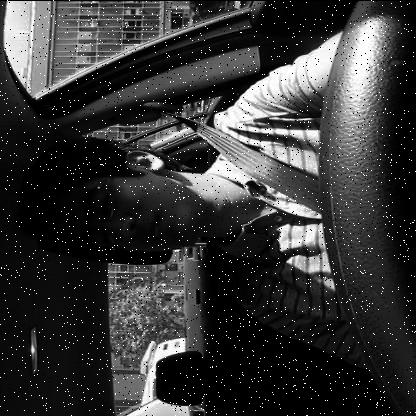seatbelt: (13, 98, 319, 284)
